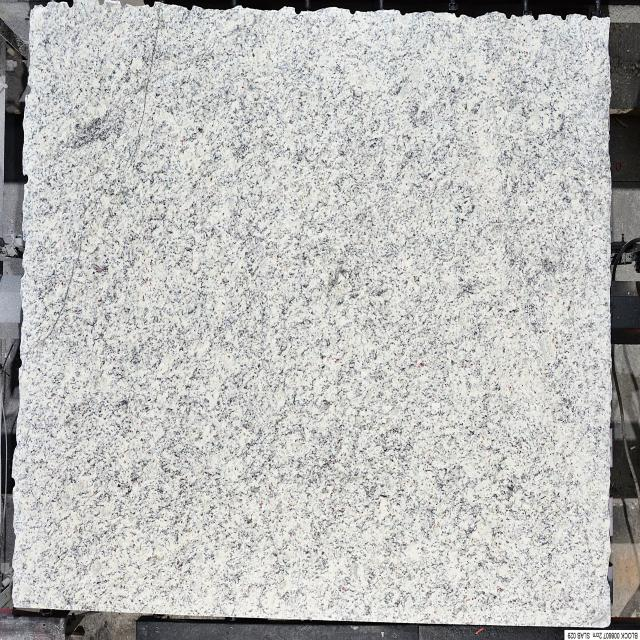chapa: (14, 2, 611, 626)
veio: (21, 171, 30, 187), (24, 82, 32, 99), (65, 0, 75, 10)
